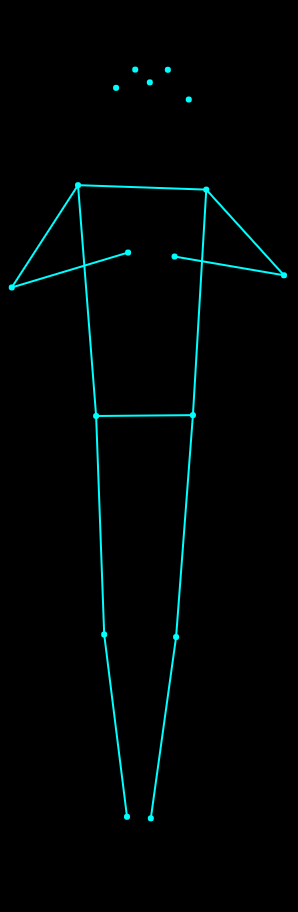mountain: (6, 57, 292, 833)
